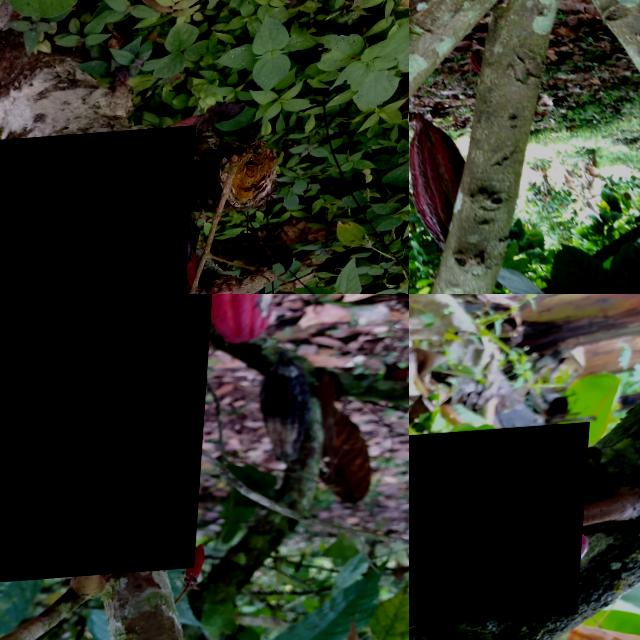Fitoftora: (0, 131, 197, 294)
Monilia: (409, 430, 592, 640), (207, 294, 281, 353)
Sana: (0, 294, 221, 587), (420, 131, 470, 245)
